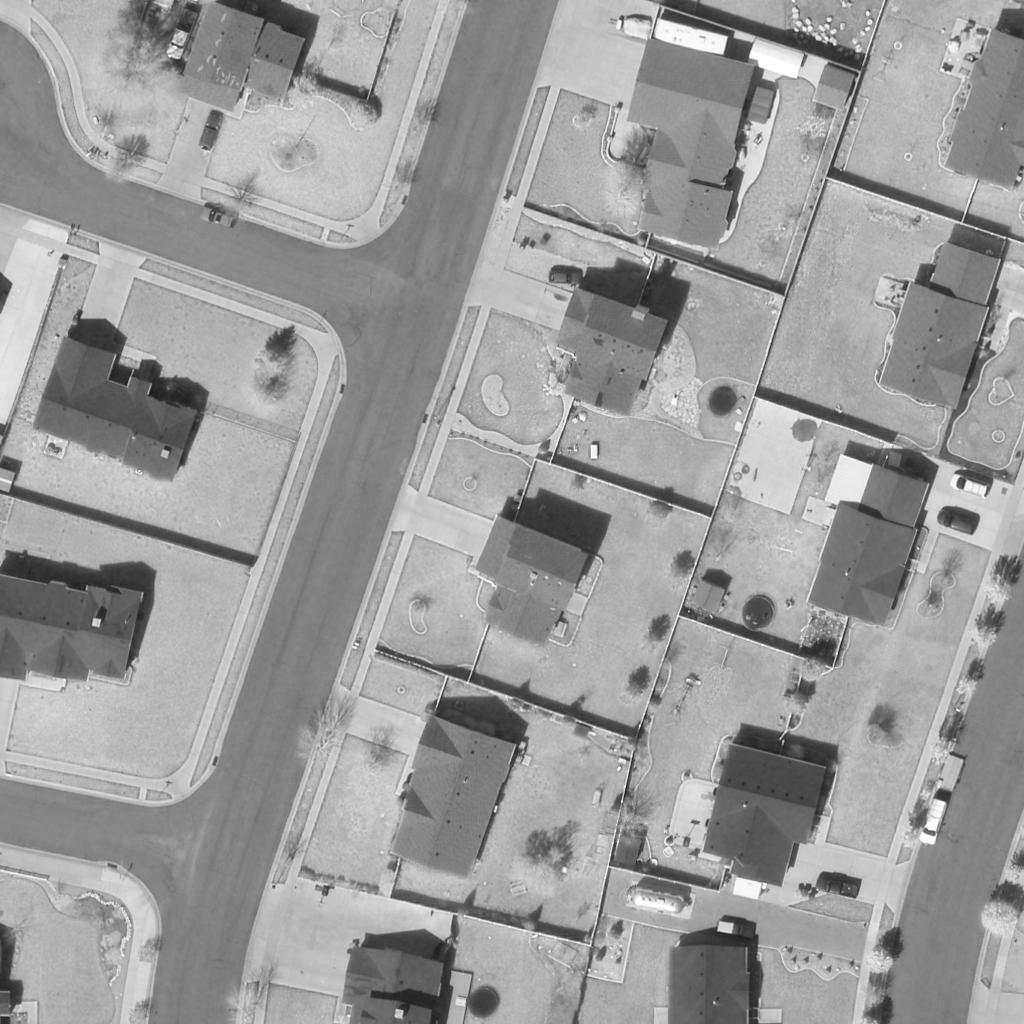vehicle: (653, 20, 729, 56), (166, 8, 198, 60), (918, 799, 948, 847), (948, 473, 992, 501), (936, 509, 978, 537), (815, 876, 861, 900), (199, 112, 225, 150), (199, 206, 235, 228), (715, 920, 757, 938), (549, 272, 583, 284)
